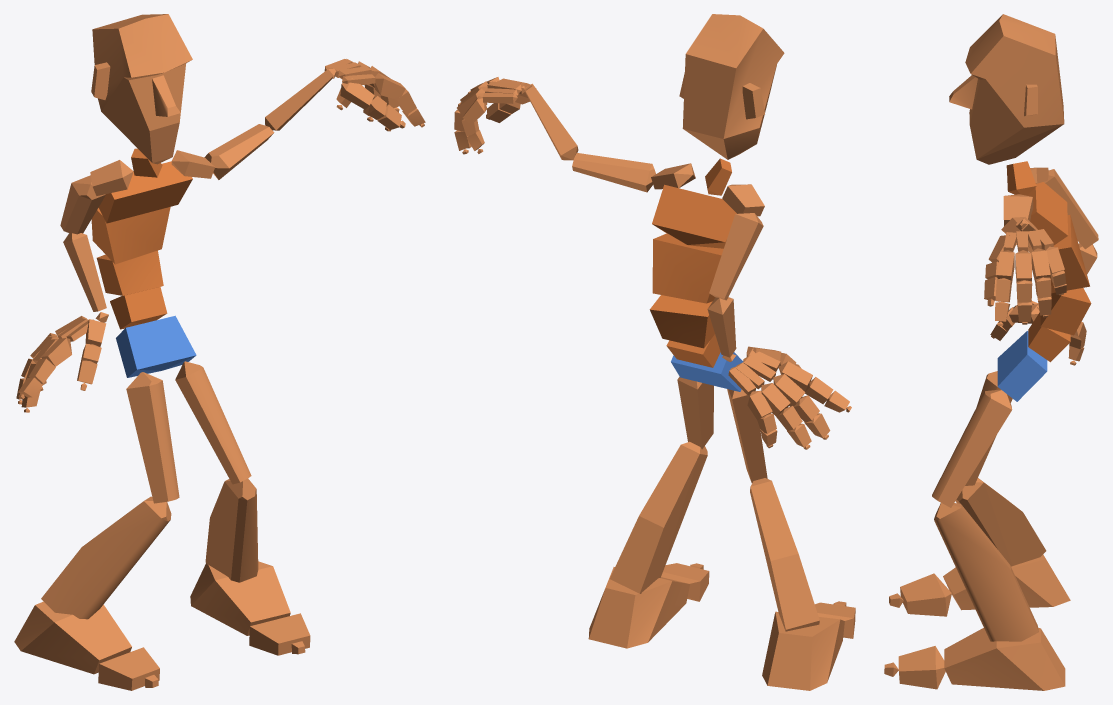
Rendered from personaje328.obj.
The picture shows the model from 3 angles, left to right: view 1: azimuth 30°, elevation 25°; view 2: azimuth 150°, elevation 25°; view 3: azimuth 270°, elevation 25°; orthographic projection. The views are drawn at different scales.
Parts seen in each view (by area): view 1: BOPED_Head, BOPED_R_leg, BOPED_R_foot, BOPED_R_foot01, BOPED_L_leg, BOPED_R_legup, BOPED_L_legup, Bone01, Bone05, Bone04, Bone03, BOPED_R_foot_toe04 (+8 smaller); view 2: BOPED_Head, BOPED_L_leg, BOPED_R_leg, BOPED_R_foot01, BOPED_R_foot, Bone05, Bone04, Bone03, BOPED_R_arm_upper, BOPED_L_arm_upper, BOPED_L_legup, BOPED_R_legup (+9 smaller); view 3: BOPED_Head, BOPED_L_leg, BOPED_R_foot01, BOPED_R_leg, BOPED_L_legup, BOPED_R_foot, Bone01, BOPED_R_foot_toe01, Bone05, BOPED_R_foot_toe04, Bone03, Bone04 (+11 smaller).
Part boxes in pixels (<box>): BOPED_Head: <box>91,14,192,164</box>; BOPED_R_leg: <box>41,496,171,619</box>; BOPED_R_foot: <box>14,601,131,674</box>; BOPED_R_foot01: <box>190,561,290,635</box>; BOPED_L_leg: <box>205,478,258,582</box>; BOPED_R_legup: <box>126,372,179,503</box>; BOPED_L_legup: <box>175,361,251,484</box>; Bone01: <box>116,315,196,377</box>; Bone05: <box>98,161,192,223</box>; Bone04: <box>91,207,170,264</box>; Bone03: <box>96,250,163,295</box>; BOPED_R_foot_toe04: <box>249,613,310,655</box>; BOPED_Head: <box>679,14,784,159</box>; BOPED_L_leg: <box>610,441,707,593</box>; BOPED_R_leg: <box>750,478,819,631</box>; BOPED_R_foot01: <box>588,567,689,648</box>; BOPED_R_foot: <box>762,611,844,690</box>; Bone05: <box>652,184,736,248</box>; Bone04: <box>652,233,723,303</box>; Bone03: <box>649,295,714,348</box>; BOPED_R_arm_upper: <box>709,213,763,300</box>; BOPED_L_arm_upper: <box>572,153,655,192</box>; BOPED_L_legup: <box>677,377,713,449</box>; BOPED_R_legup: <box>727,389,767,482</box>; BOPED_Head: <box>949,14,1064,164</box>; BOPED_L_leg: <box>934,503,1038,641</box>; BOPED_R_foot01: <box>944,628,1065,690</box>; BOPED_R_leg: <box>955,478,1046,566</box>; BOPED_L_legup: <box>932,389,1012,507</box>; BOPED_R_foot: <box>943,554,1070,610</box>; Bone01: <box>997,331,1047,401</box>; BOPED_R_foot_toe01: <box>900,573,951,616</box>; Bone05: <box>1027,182,1068,245</box>; BOPED_R_foot_toe04: <box>898,646,945,689</box>; Bone03: <box>1040,288,1091,335</box>; Bone04: <box>1050,215,1089,293</box>.
Size of the model in its own units: 123 by 184 by 58.46.
